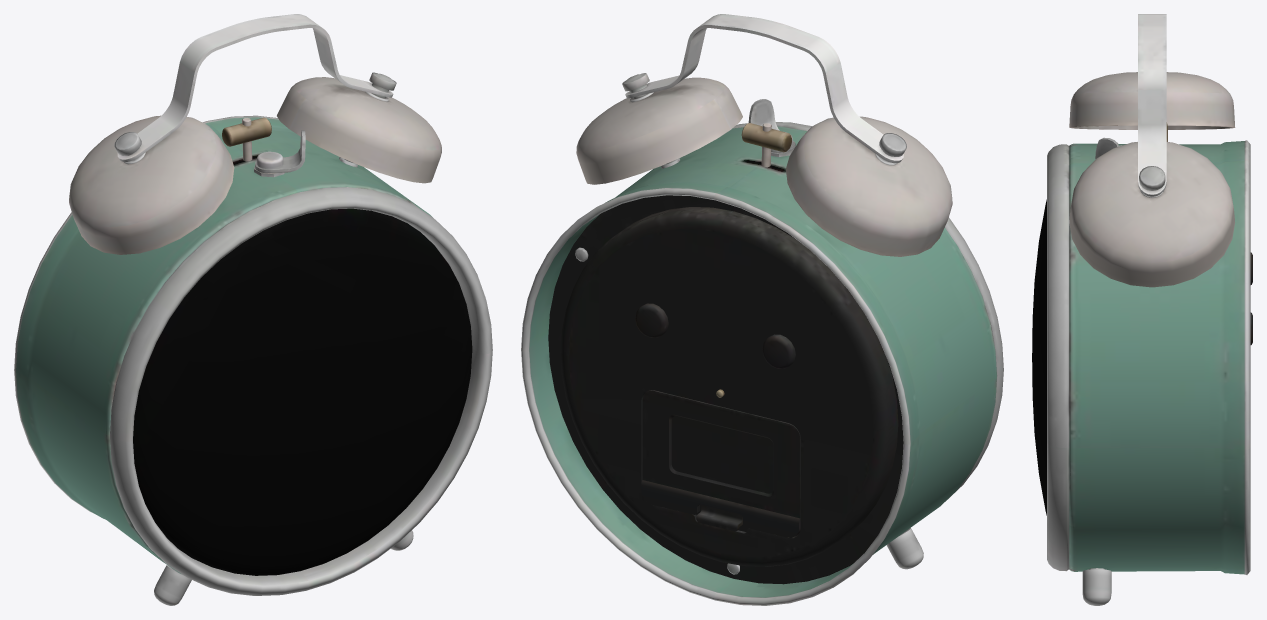
File: alarmClock.glb
3 views of the same model, side by side, from view 1: azimuth 30°, elevation 25°; view 2: azimuth 150°, elevation 25°; view 3: azimuth 270°, elevation 25° (orthographic). The views are drawn at different scales.
Parts seen in each view (by area): view 1: alarm_clock_01; view 2: alarm_clock_01; view 3: alarm_clock_01.
Part boxes in pixels (left/top/right/bottom): alarm_clock_01: left=14, top=14, right=492, bottom=605; alarm_clock_01: left=521, top=14, right=1003, bottom=605; alarm_clock_01: left=1032, top=14, right=1252, bottom=605.
Size of the model in its own units: 0.1317 by 0.1742 by 0.0667.
Materials: 2 (2 with a texture image).
